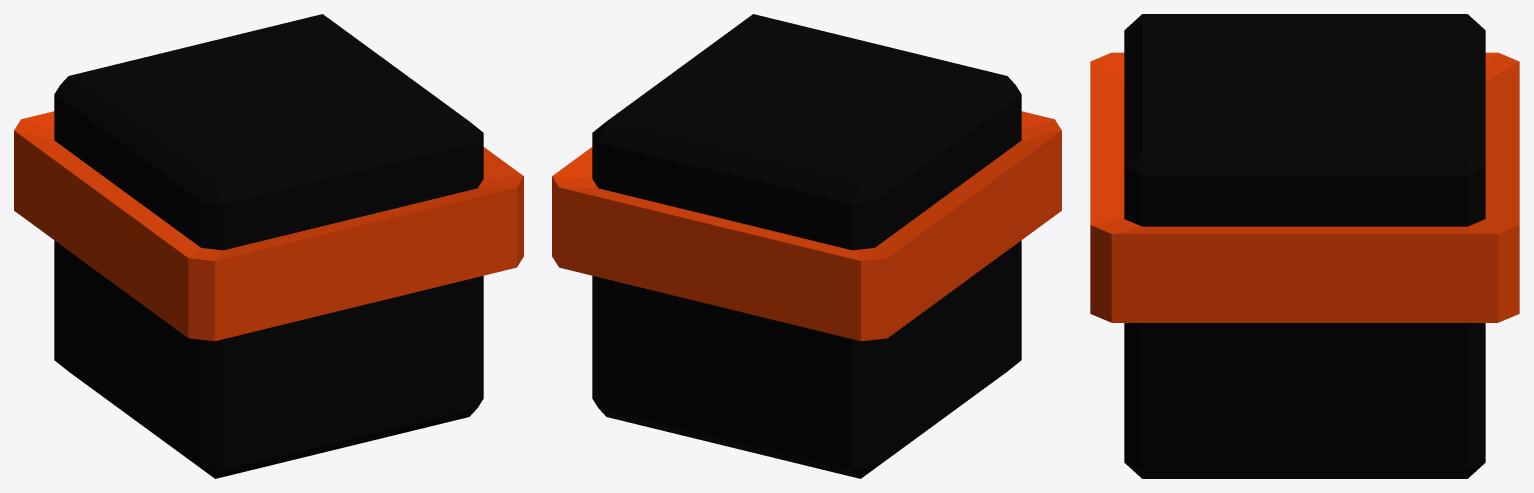
3 views of the same model, side by side, from view 1: azimuth 30°, elevation 25°; view 2: azimuth 150°, elevation 25°; view 3: azimuth 270°, elevation 25° (orthographic). The views are drawn at different scales.
Visible parts, largest first — view 1: Cube; view 2: Cube; view 3: Cube.
Part boxes in pixels (x1,y1,x2,y2): Cube: (14, 14, 523, 478); Cube: (552, 14, 1061, 478); Cube: (1090, 14, 1519, 478).
Size of the model in its own units: 238 by 200 by 238.
